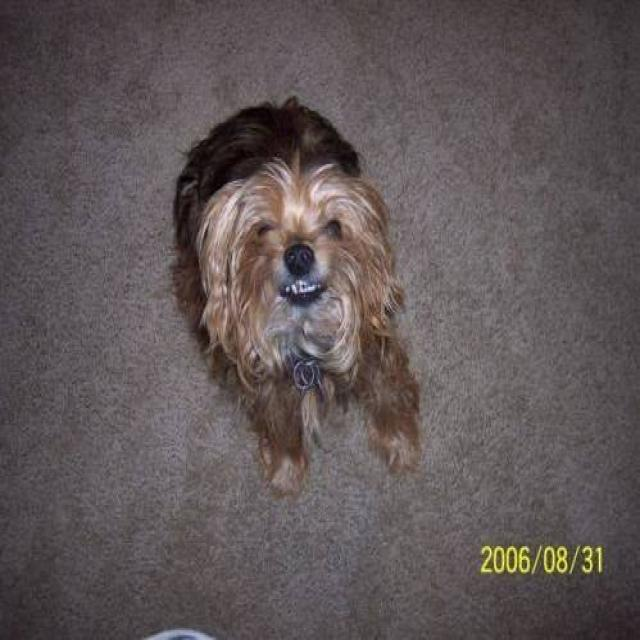Dog: (196, 155, 392, 362)
